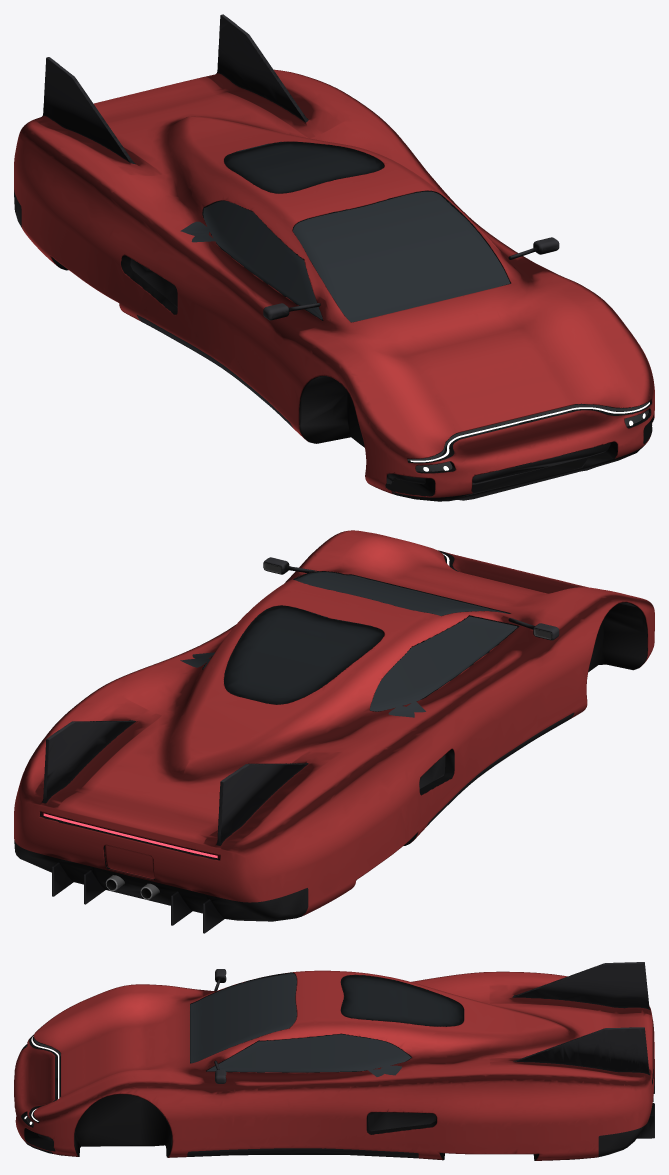
File: apogee.glb
3 views of the same model, one above another, from view 1: azimuth 30°, elevation 25°; view 2: azimuth 150°, elevation 25°; view 3: azimuth 270°, elevation 25° (orthographic). The views are drawn at different scales.
Parts seen in each view (by area): view 1: paint, window, trim, carbon, glass, grille, head; view 2: paint, glass, carbon, window, trim, chrome; view 3: paint, window, carbon, trim, glass, grille.
Boxes of the visible parts, <box> form: paint: <box>14,69,654,497</box>; window: <box>180,191,510,322</box>; trim: <box>14,190,654,501</box>; carbon: <box>42,14,559,428</box>; glass: <box>224,141,384,193</box>; grille: <box>130,258,610,484</box>; head: <box>407,401,649,471</box>; paint: <box>14,530,654,916</box>; glass: <box>223,605,384,704</box>; carbon: <box>42,557,574,933</box>; window: <box>180,572,517,717</box>; trim: <box>14,550,647,921</box>; chrome: <box>105,563,551,899</box>; paint: <box>14,970,654,1160</box>; window: <box>190,973,411,1076</box>; carbon: <box>187,962,654,1158</box>; trim: <box>21,972,653,1160</box>; glass: <box>340,974,464,1026</box>; grille: <box>38,1112,436,1141</box>.
Size of what is drawn, in the model's own units: 2.12 by 1.1 by 4.99.
